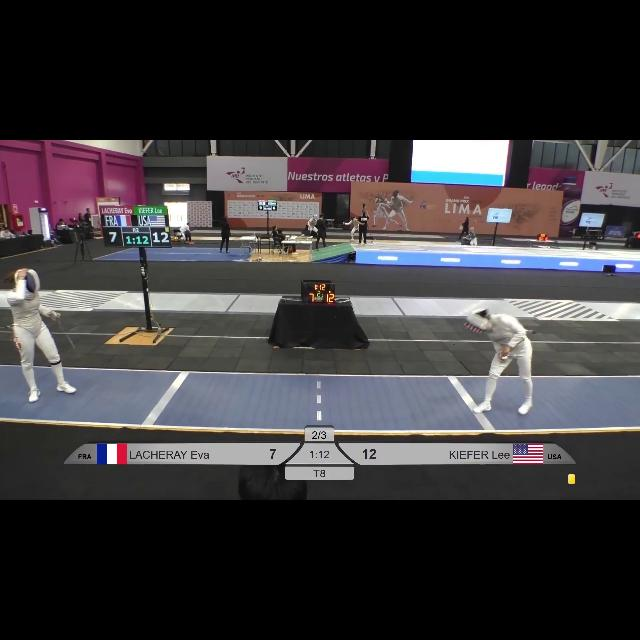blade: (52, 313, 86, 373)
